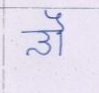au_matra: (48, 10, 69, 56)
